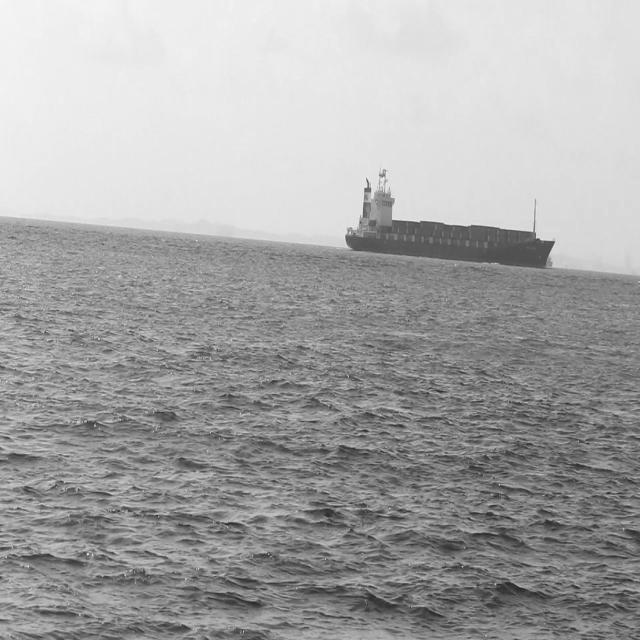ship: (344, 170, 554, 260), (547, 240, 559, 260)
